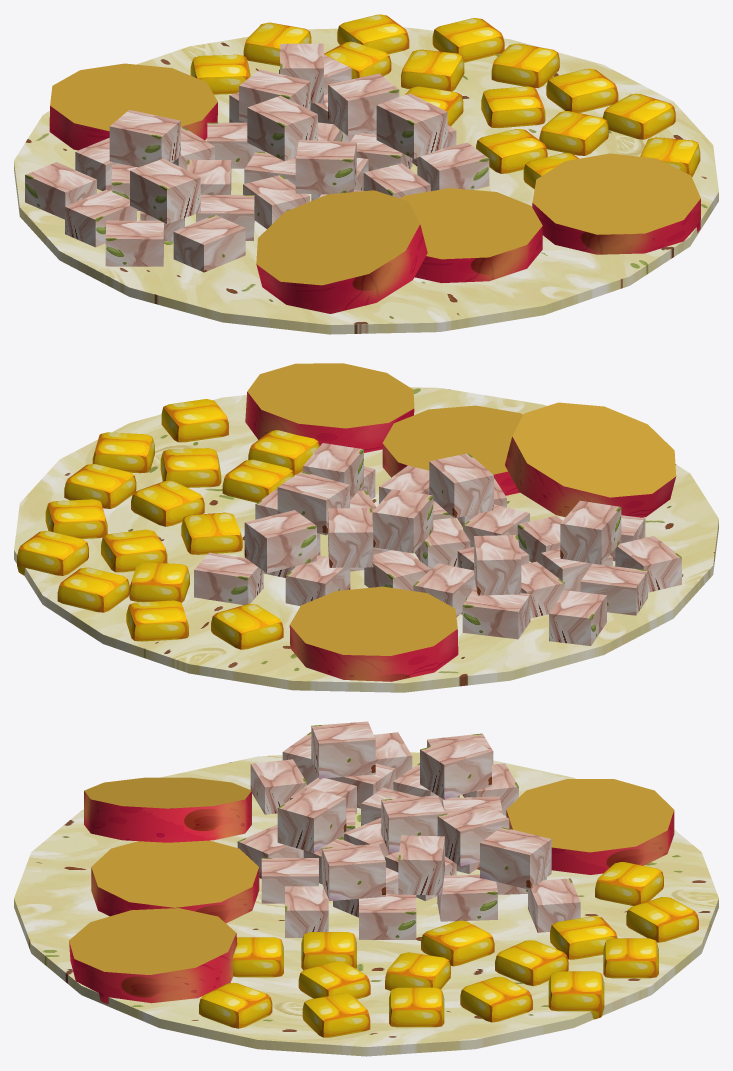
File: CEVICHE FINAL.fbx
3 renders of one model, top to bottom at view 1: azimuth 30°, elevation 25°; view 2: azimuth 150°, elevation 25°; view 3: azimuth 270°, elevation 25°, orthographic.
Parts seen in each view (by area): view 1: CEVICHE COMPLETO_PRP; view 2: CEVICHE COMPLETO_PRP; view 3: CEVICHE COMPLETO_PRP.
Boxes of the visible parts, x1,y1,x2,y2 form: CEVICHE COMPLETO_PRP: [14, 14, 718, 334]; CEVICHE COMPLETO_PRP: [14, 363, 718, 692]; CEVICHE COMPLETO_PRP: [14, 721, 718, 1056].
Size of the model in its own units: 47.85 by 5.53 by 47.85.
5 materials, 4 textured.
